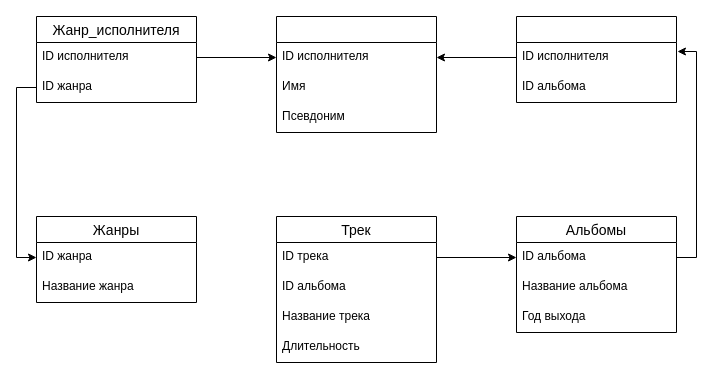
This 713x379 diagram has some shape labels left out. The box of each missing label's shape, as (x1, y1, x2, y2) in pixels:
Альбом исполнителя: (516, 16, 676, 102)
Исполнитель: (276, 16, 436, 132)
